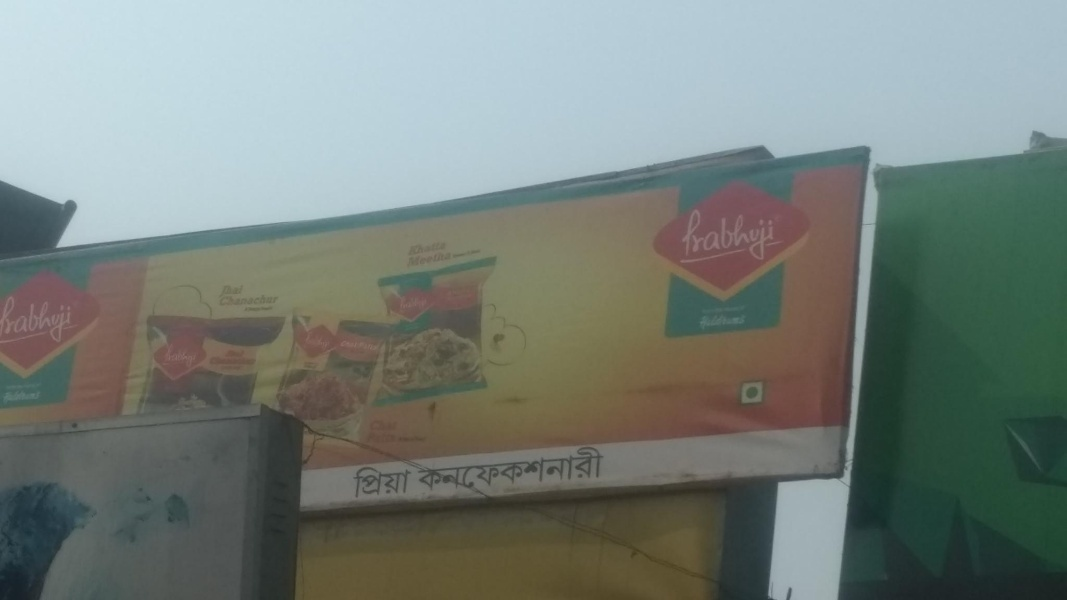text: (769, 204, 785, 271), (689, 204, 704, 271), (705, 204, 720, 271), (721, 204, 736, 271), (737, 204, 752, 271), (753, 204, 768, 271), (1, 289, 16, 352), (17, 289, 32, 352), (33, 289, 48, 352), (49, 289, 64, 352), (65, 289, 80, 352), (417, 445, 432, 500), (433, 445, 448, 500), (449, 445, 464, 500), (465, 445, 480, 500), (481, 445, 496, 500), (497, 445, 512, 500), (513, 445, 528, 500), (529, 445, 544, 500), (545, 445, 560, 500), (561, 445, 576, 500), (577, 445, 592, 500), (593, 445, 607, 500), (678, 204, 688, 271), (305, 327, 320, 369), (321, 327, 336, 369), (337, 327, 352, 369), (353, 327, 368, 369), (353, 464, 368, 505), (369, 464, 384, 505), (385, 464, 400, 505), (401, 464, 416, 505), (161, 341, 176, 382), (177, 341, 192, 382), (193, 341, 208, 382), (209, 341, 224, 382), (225, 341, 240, 382), (241, 341, 256, 382), (369, 414, 384, 453), (385, 414, 400, 453), (401, 414, 416, 453), (369, 327, 382, 369), (225, 282, 240, 318), (241, 282, 256, 318), (257, 282, 272, 318), (273, 282, 288, 318), (705, 303, 720, 337), (721, 303, 736, 337), (737, 303, 752, 337), (401, 285, 416, 317), (417, 285, 432, 317), (433, 285, 448, 317), (449, 285, 464, 317), (417, 414, 429, 453), (691, 303, 704, 337), (417, 241, 432, 270), (433, 241, 448, 270), (449, 241, 464, 270), (465, 241, 480, 270), (17, 380, 32, 408), (33, 380, 48, 408), (465, 285, 478, 317), (2, 380, 16, 408), (359, 414, 368, 453), (215, 282, 224, 318), (405, 241, 416, 270), (395, 285, 400, 317), (481, 241, 486, 270), (157, 341, 160, 382), (257, 341, 260, 382), (49, 380, 53, 408), (302, 327, 304, 369), (753, 303, 755, 337)
